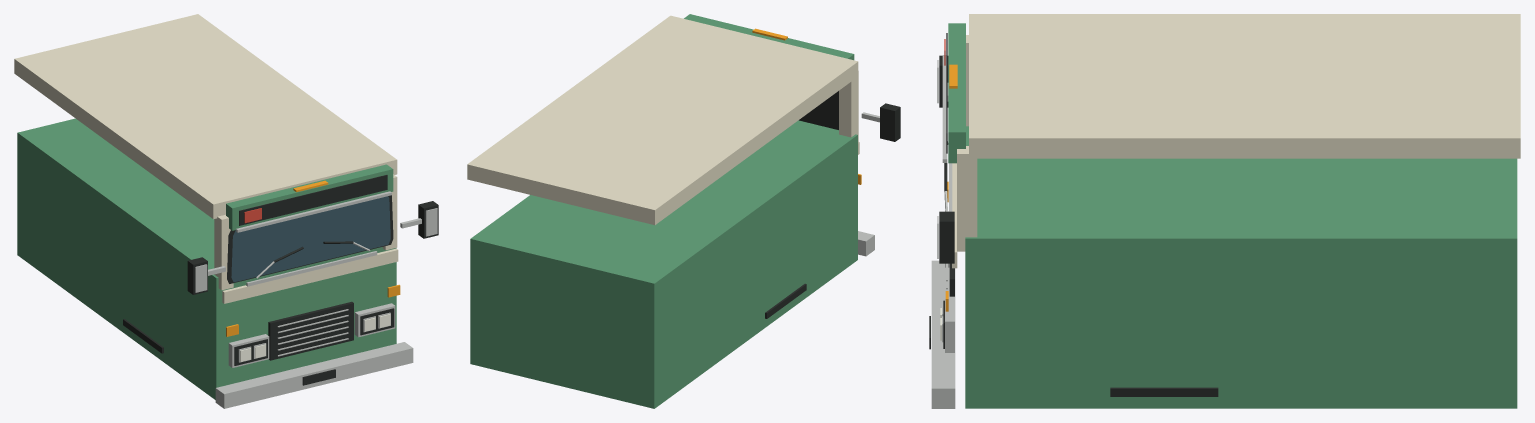
The model's file is TNSTC_Town_Front.glb.
3 renders of one model, left to right at view 1: azimuth 30°, elevation 25°; view 2: azimuth 150°, elevation 25°; view 3: azimuth 270°, elevation 25°, orthographic. The views are drawn at different scales.
Visible parts, largest first — view 1: Full width body shell, Roof cap, Town panoramic windscreen, Stamped front bumper, Town broad central grille, Destination outer housing, Front cream belt, Destination recessed black display, A pillar -1, Destination display lower lip, Town lower air intake, Town shaped windscreen rubber (+5 smaller); view 2: Full width body shell, Roof cap, A pillar -1, Destination outer housing, Town shaped windscreen rubber, Mirror casing -1; view 3: Full width body shell, Roof cap, Stamped front bumper, Destination outer housing, A pillar 1, Wheel arch side 1, Mirror casing 1, Destination display lower lip, Town recessed rectangular lamp bezel 1.
Boxes of the visible parts, box(x1,y1,x2,y2) form: Full width body shell: box(17, 118, 396, 399); Roof cap: box(14, 14, 397, 219); Town panoramic windscreen: box(231, 196, 390, 282); Stamped front bumper: box(215, 342, 413, 408); Town broad central grille: box(268, 301, 353, 360); Destination outer housing: box(226, 164, 393, 230); Front cream belt: box(222, 248, 398, 303); Destination recessed black display: box(239, 175, 387, 225); A pillar -1: box(214, 214, 233, 290); Destination display lower lip: box(236, 191, 391, 232); Town lower air intake: box(246, 251, 377, 286); Town shaped windscreen rubber: box(227, 195, 393, 283); Full width body shell: box(470, 120, 857, 408); Roof cap: box(467, 15, 858, 225); A pillar -1: box(839, 71, 858, 142); Destination outer housing: box(684, 14, 854, 60); Town shaped windscreen rubber: box(799, 91, 838, 129); Mirror casing -1: box(880, 103, 900, 141); Full width body shell: box(965, 126, 1517, 408); Roof cap: box(969, 14, 1520, 158); Stamped front bumper: box(931, 260, 955, 408); Destination outer housing: box(948, 23, 965, 163); A pillar 1: box(957, 146, 977, 251); Wheel arch side 1: box(1110, 387, 1218, 396); Mirror casing 1: box(939, 211, 954, 263); Destination display lower lip: box(942, 55, 947, 162); Town recessed rectangular lamp bezel 1: box(945, 296, 954, 352).
Size of the model in its own units: 3.31 by 2.53 by 4.98.
